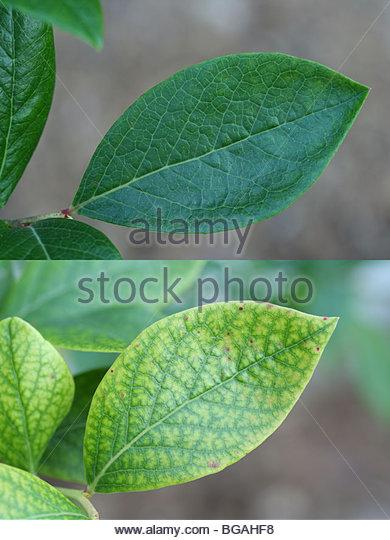Blueberry leaf: (74, 47, 372, 227)
